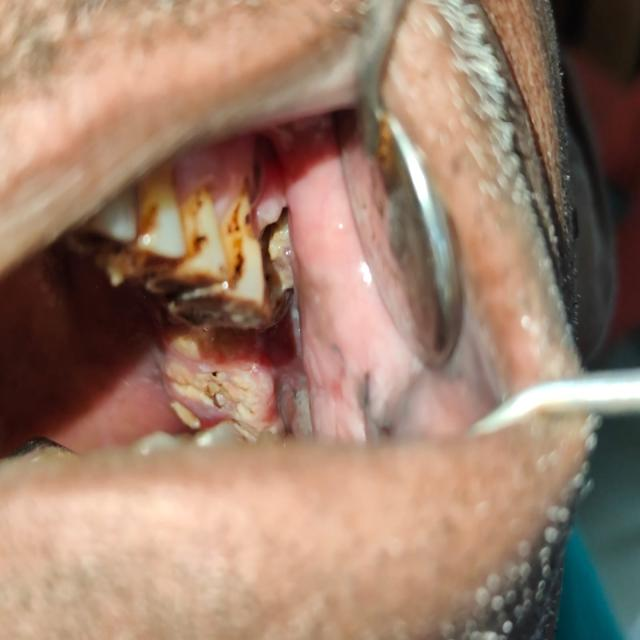cancer-detection: (149, 325, 314, 445)
processing_area: (48, 119, 402, 459)
